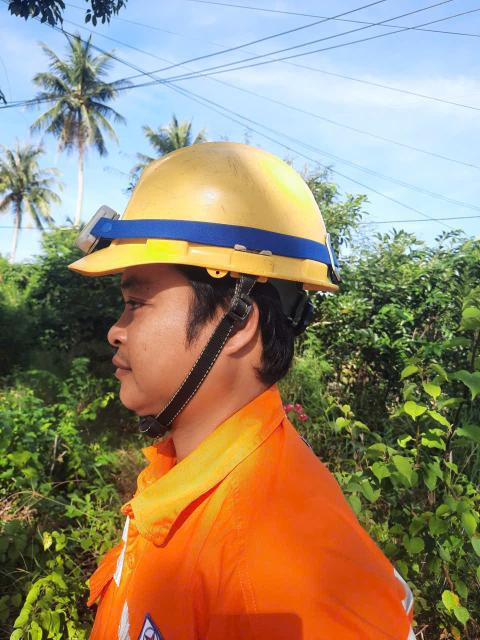helmet: (64, 111, 342, 328)
